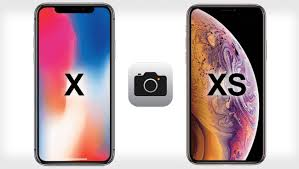iphone: (32, 1, 115, 165), (185, 2, 266, 163)
iphone10: (32, 1, 115, 165), (186, 4, 267, 165)
